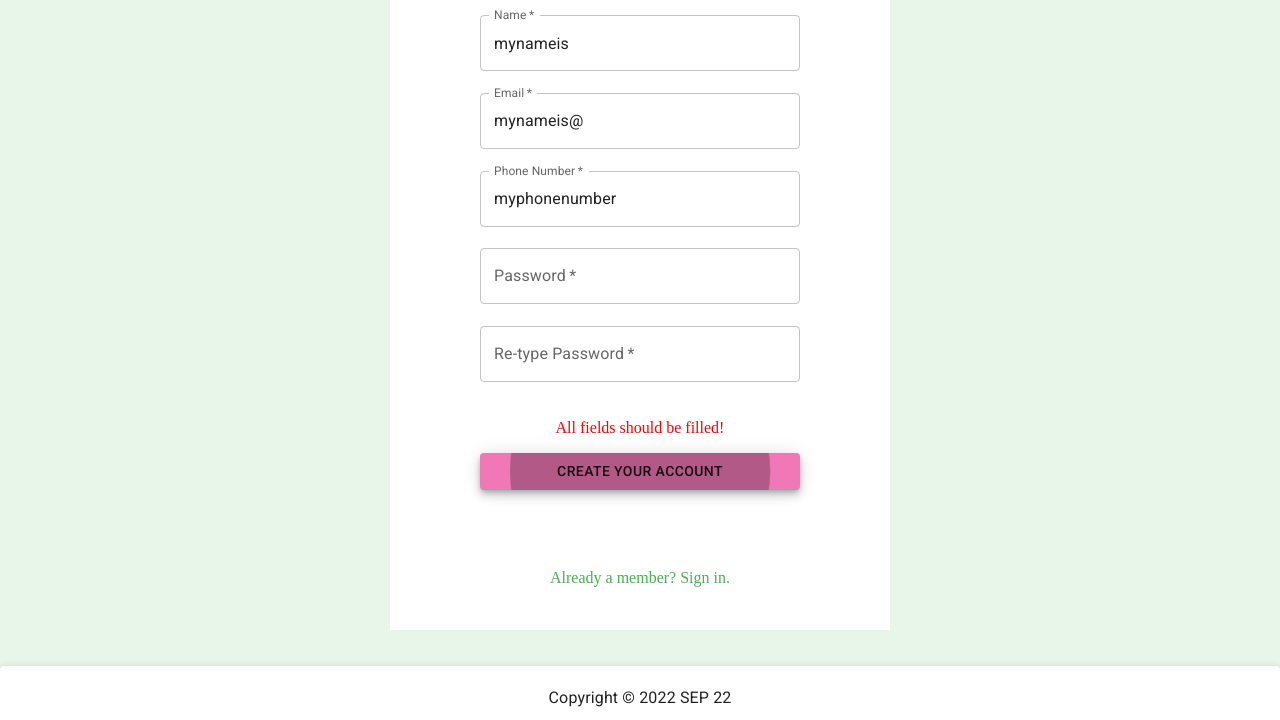
Scenario: Signup Page works correctly › Check with Invalid Email
(page scrolled)
In the password field with id "outlined-basic": (640, 276) 480,248 -> 800,304, type "pass"
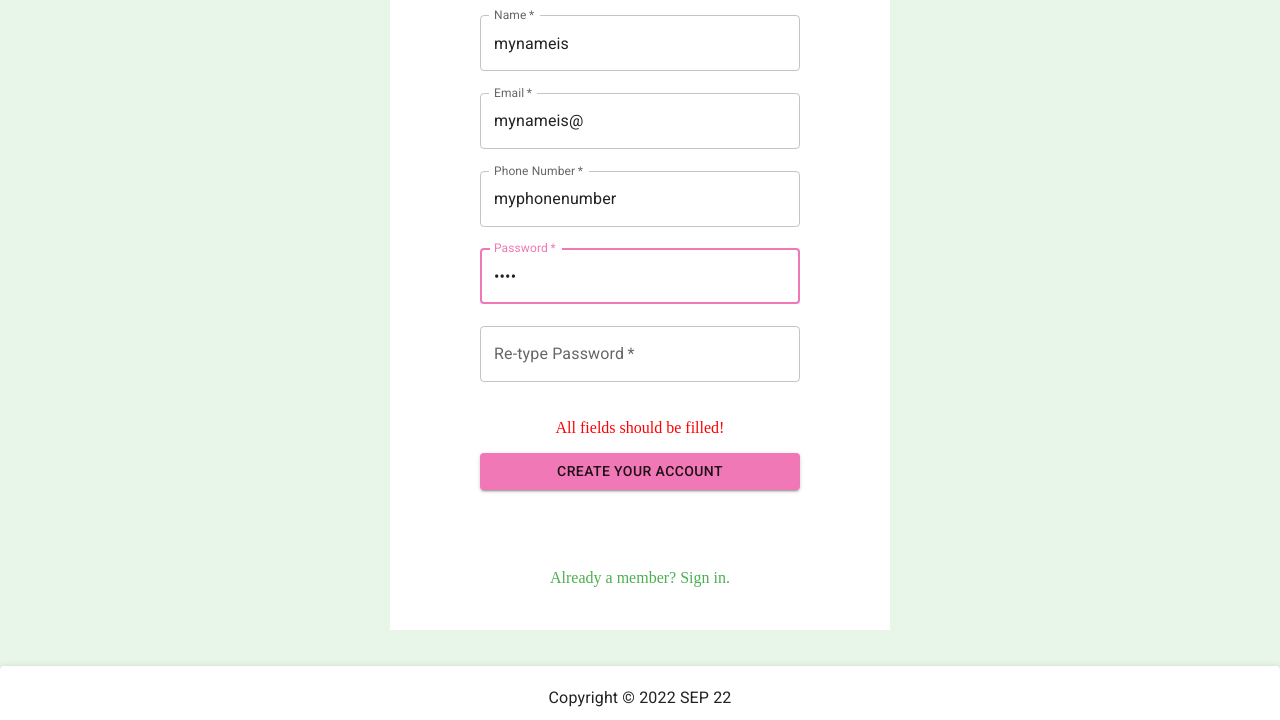
In the password field with id "outlined-basic": (640, 354) 480,326 -> 800,382, type "pass"
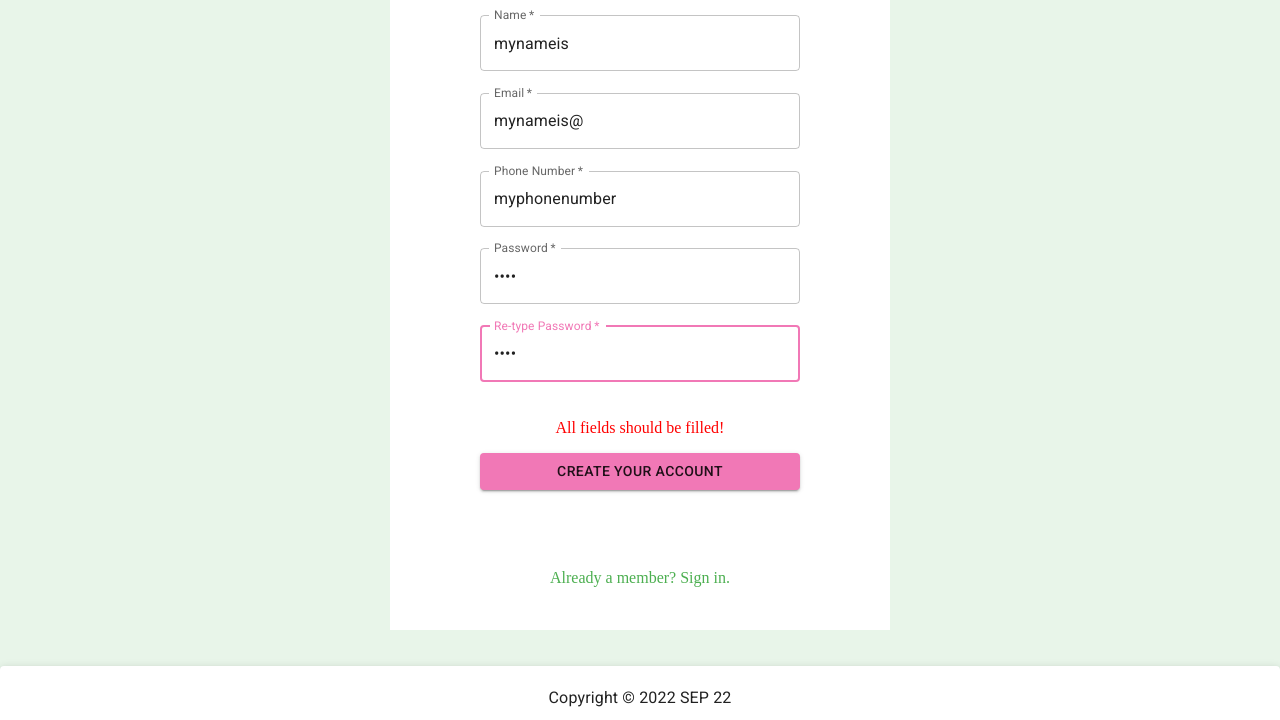
Click the button "CREATE YOUR ACCOUNT": (640, 472) 480,453 -> 800,490
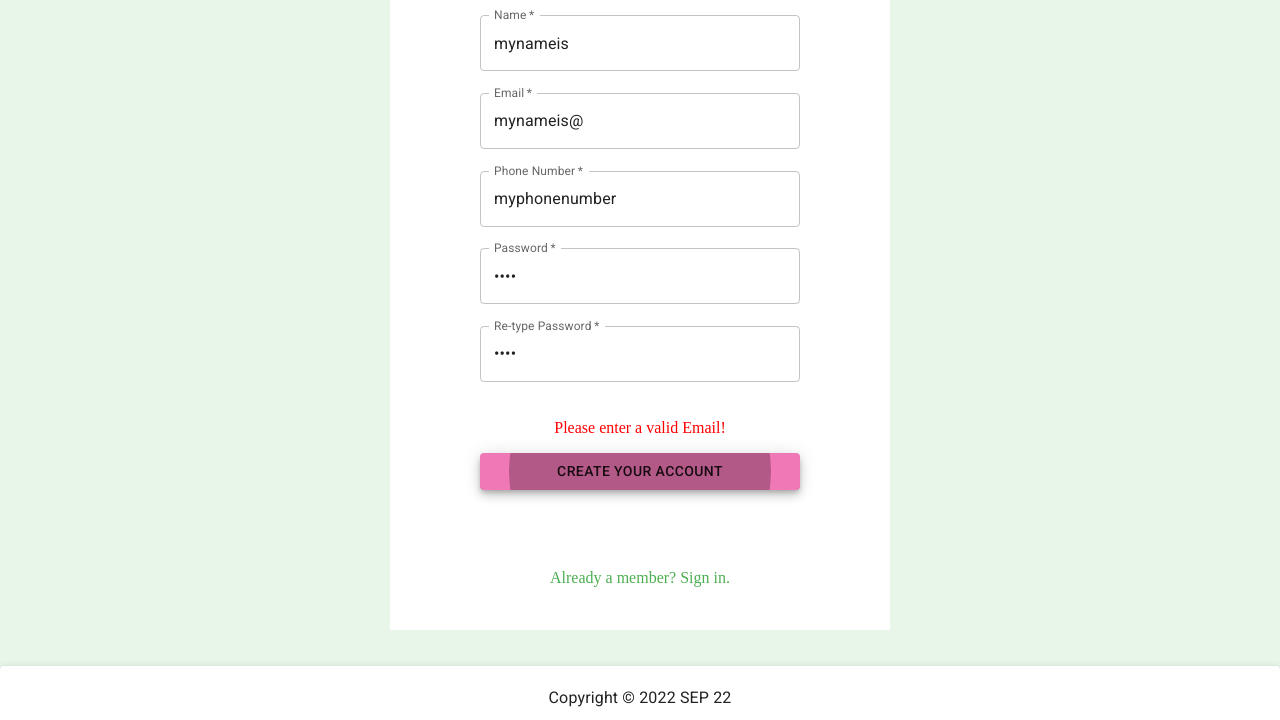
Expected: the text "Please enter a valid Email!" is shown, 554,419 -> 726,437
